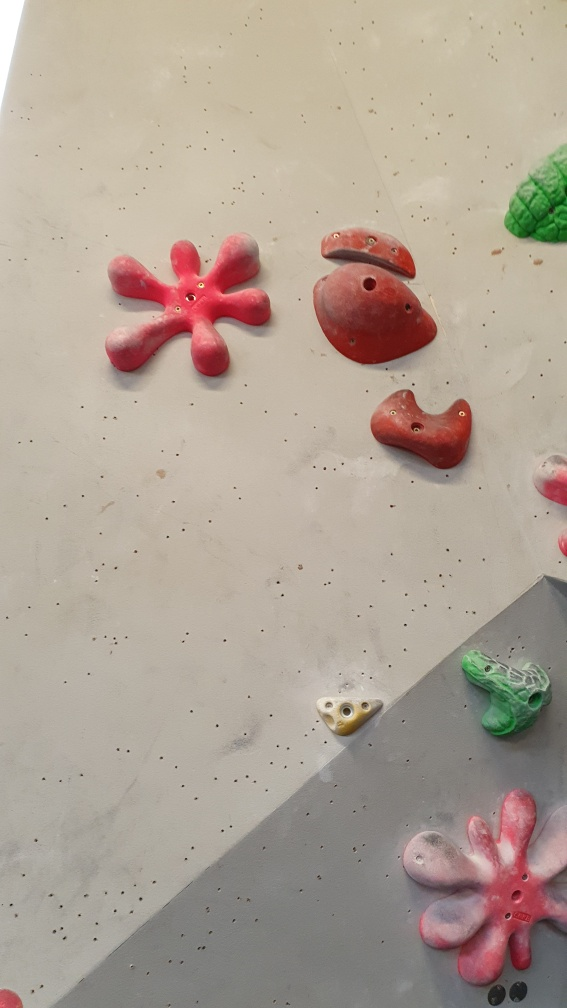Hand Start: (508, 978, 530, 1004), (486, 983, 507, 1005)
Octopus Pinch: (399, 793, 567, 989), (105, 232, 274, 382)
Sloper: (313, 263, 439, 368)
